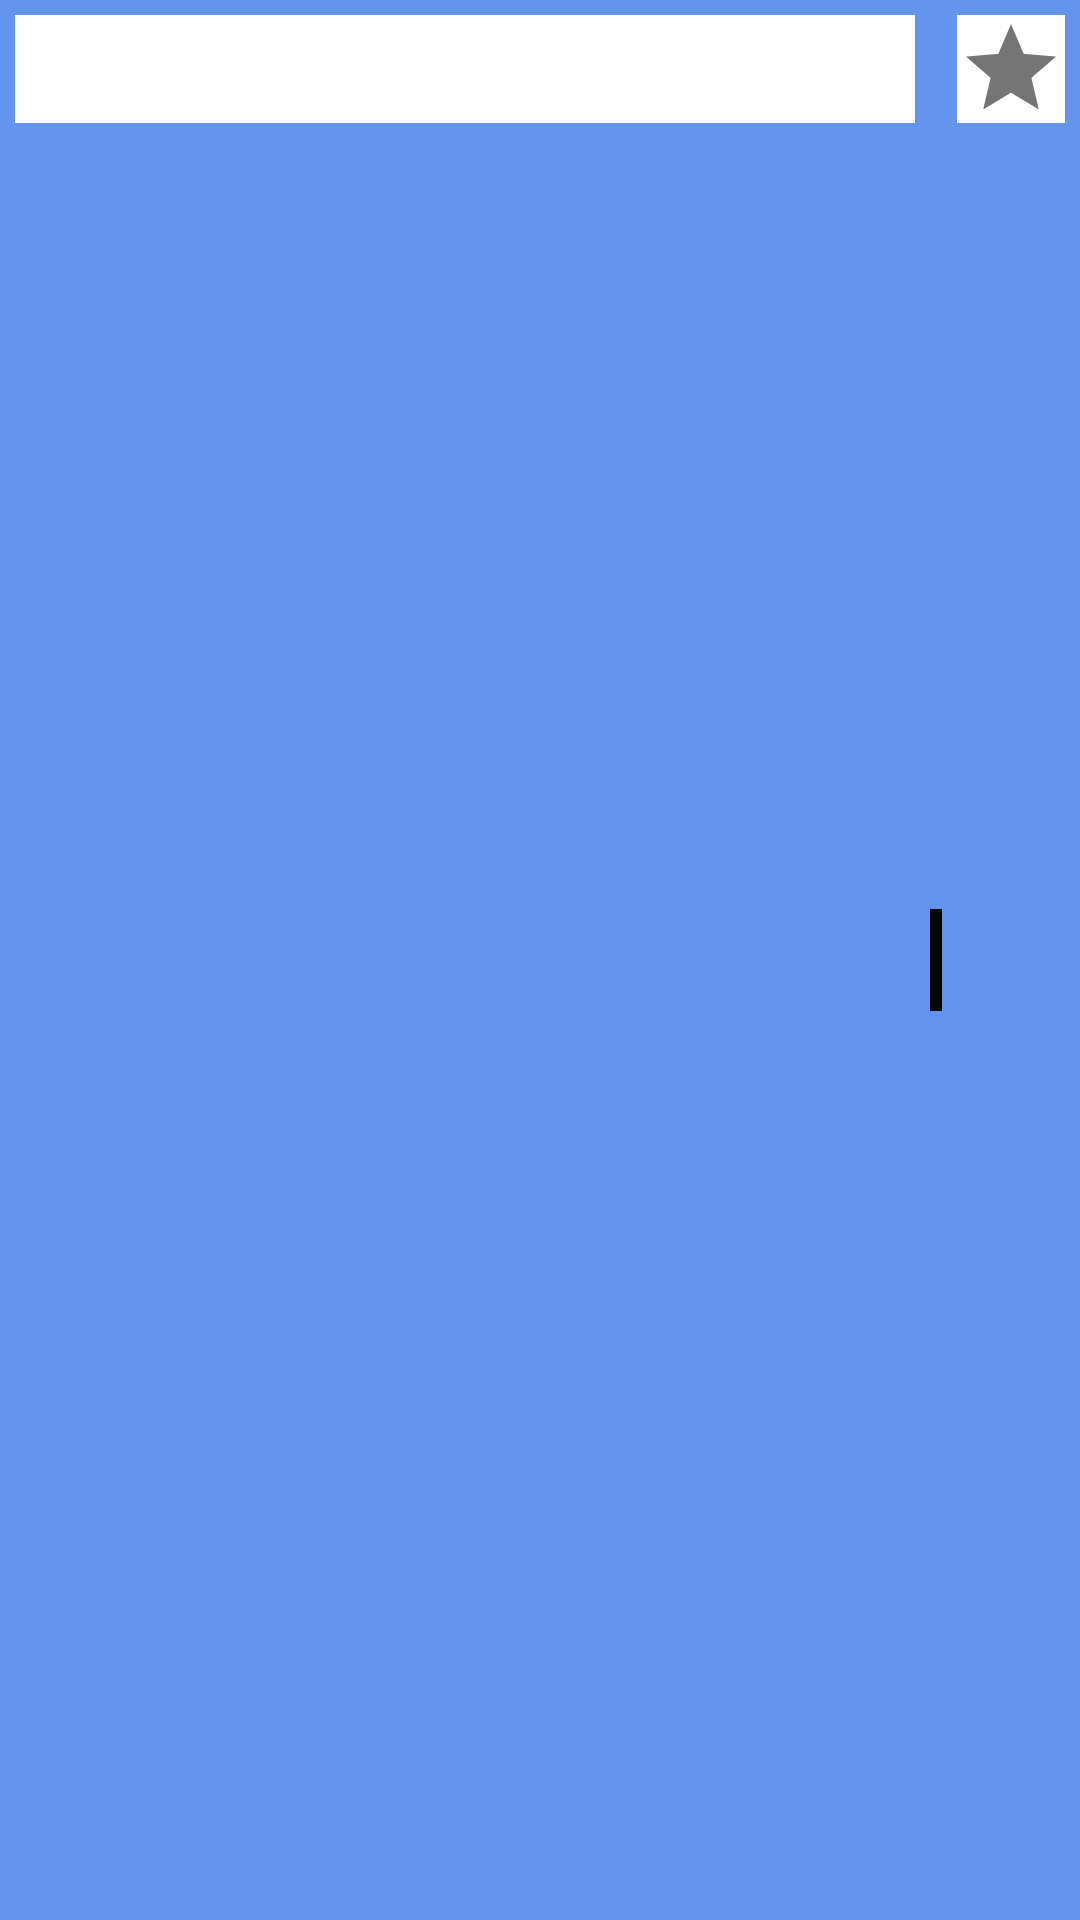

Named icons in this screenshot (1080×1920) and their centers, (x=x, y=y):
grade: (x=1011, y=69)
